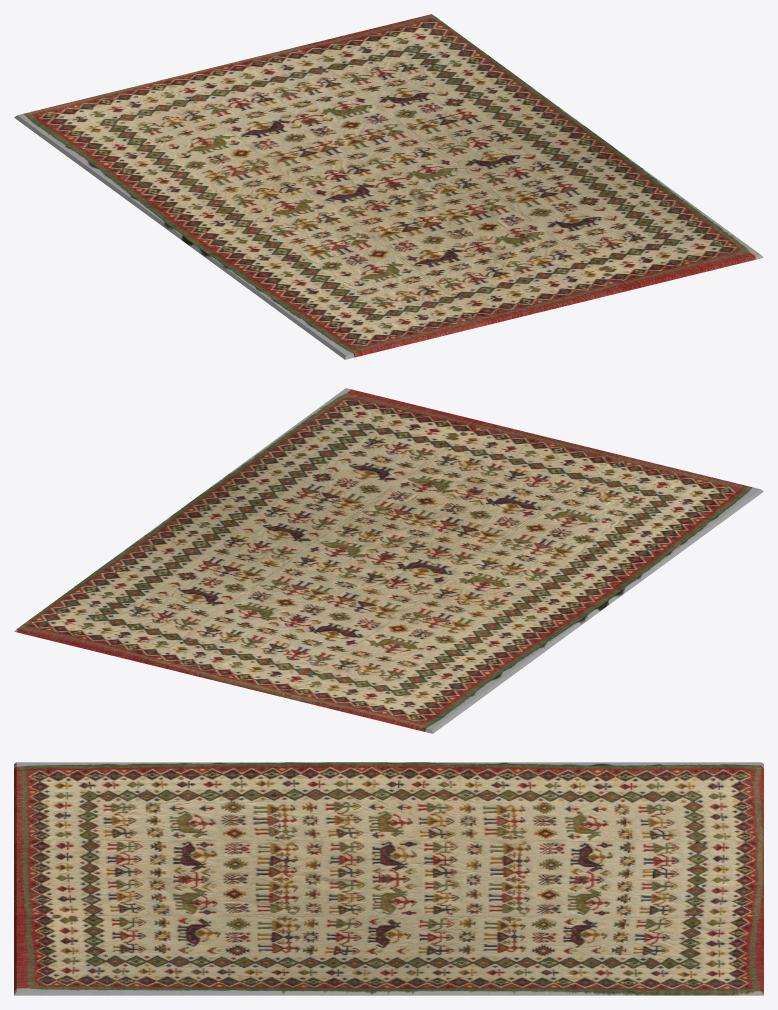
File: rug-cretan-dancers.glb
3 renders of one model, top to bottom at view 1: azimuth 30°, elevation 25°; view 2: azimuth 150°, elevation 25°; view 3: azimuth 270°, elevation 25°, orthographic. The views are drawn at different scales.
Parts seen in each view (by area): view 1: rug-cretan-dancers; view 2: rug-cretan-dancers; view 3: rug-cretan-dancers.
Part boxes in pixels (x1=…): rug-cretan-dancers: x1=14, y1=14, x2=763, y2=359; rug-cretan-dancers: x1=14, y1=388, x2=763, y2=733; rug-cretan-dancers: x1=14, y1=762, x2=763, y2=995.
Size of the model in its own units: 1.6 by 0.00989 by 2.19.
Materials: 1 (1 with a texture image).
